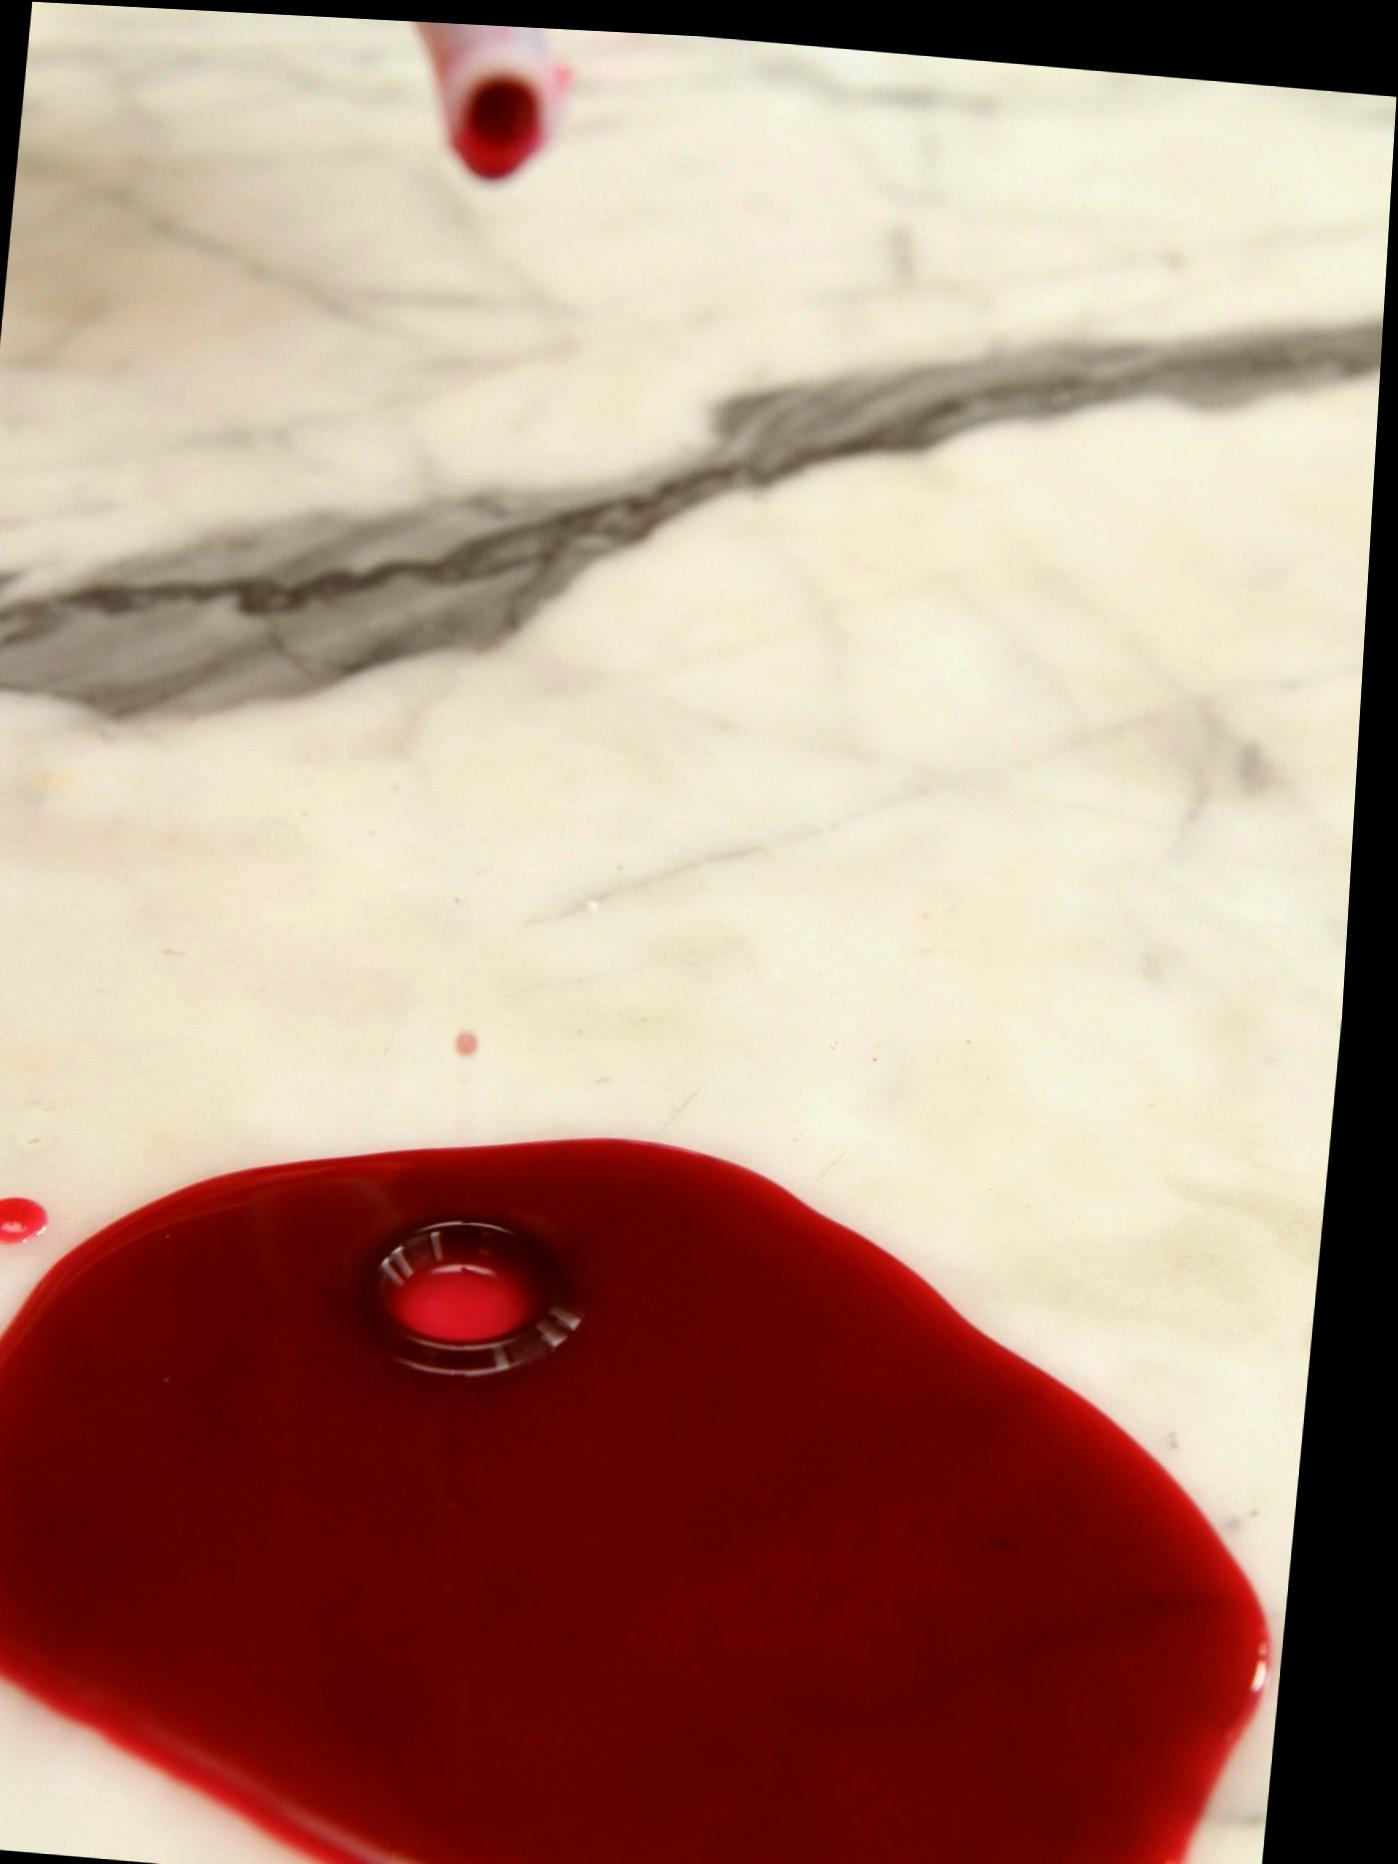Fire: (0, 1129, 1291, 1864), (0, 1195, 63, 1242)
